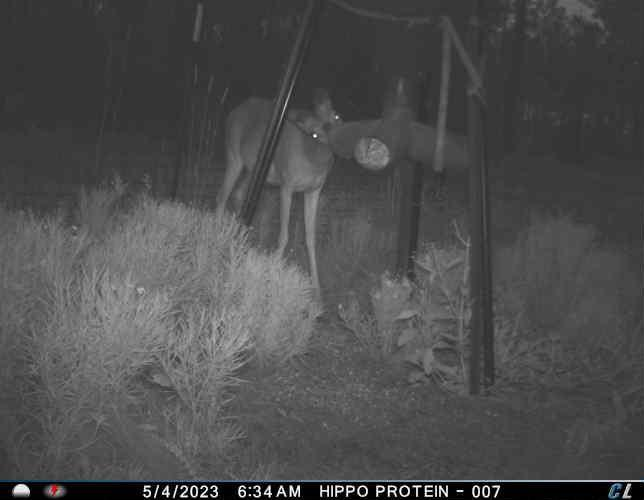Deer: (214, 84, 346, 314)
